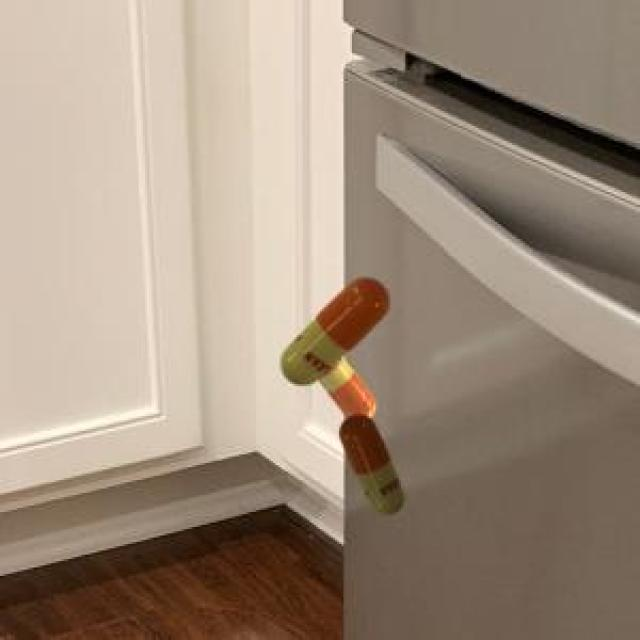Alaxan: (274, 269, 419, 522)
